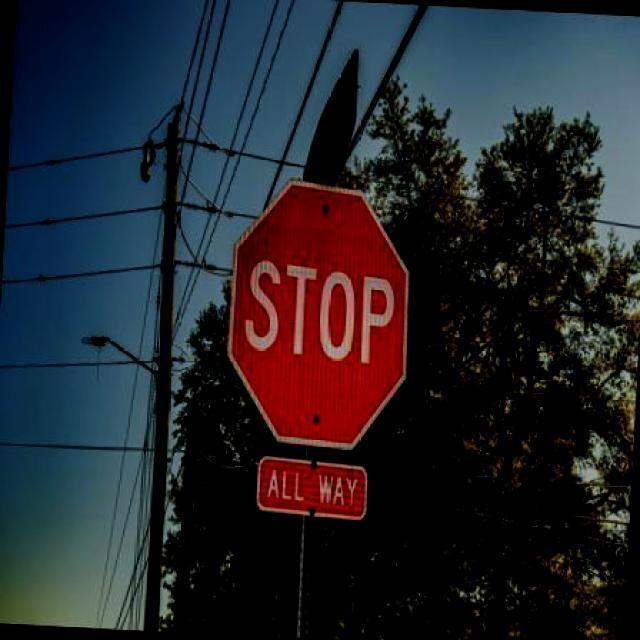Stop-Sign: (229, 182, 409, 448)
